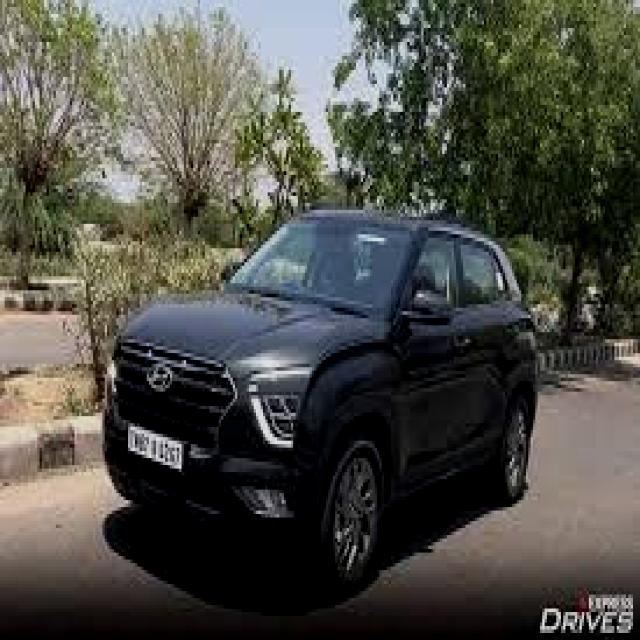SUV: (99, 208, 540, 595)
